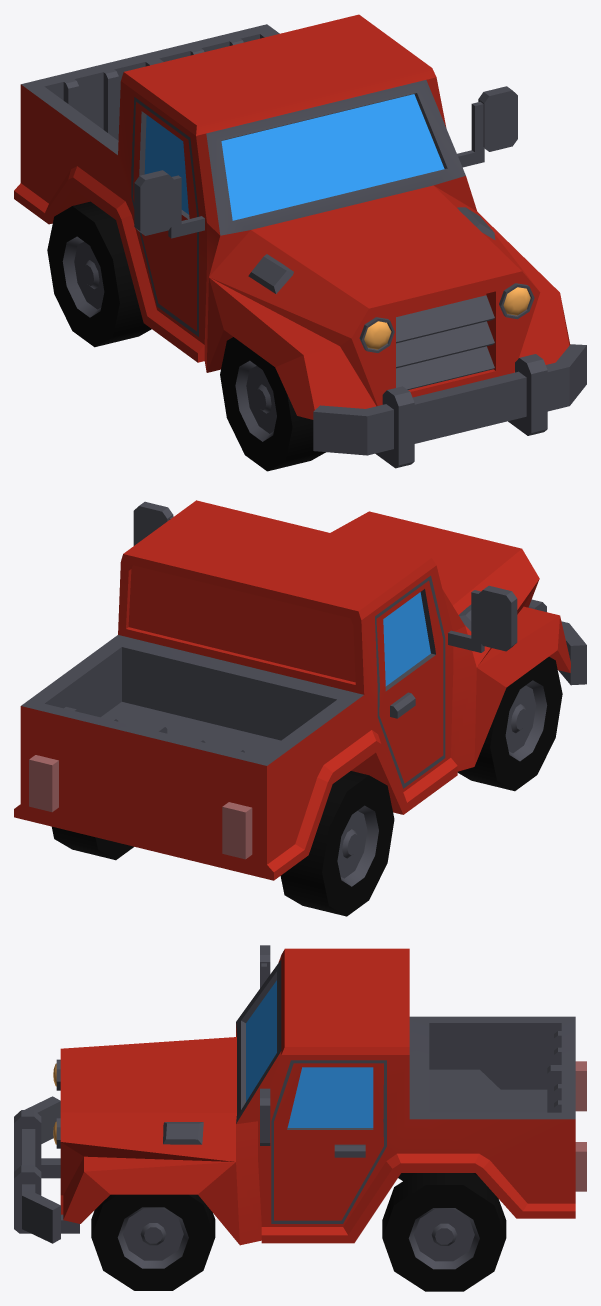
The model's file is Jeep_3.fbx.
3 renders of one model, top to bottom at view 1: azimuth 30°, elevation 25°; view 2: azimuth 150°, elevation 25°; view 3: azimuth 270°, elevation 25°, orthographic. The views are drawn at different scales.
Parts seen in each view (by area): view 1: Jeep_3; view 2: Jeep_3; view 3: Jeep_3.
Boxes of the visible parts, x1,y1,x2,y2 form: Jeep_3: [14, 14, 586, 471]; Jeep_3: [14, 500, 586, 916]; Jeep_3: [14, 945, 586, 1291].
Size of the model in its own units: 92.04 by 64.59 by 142.
